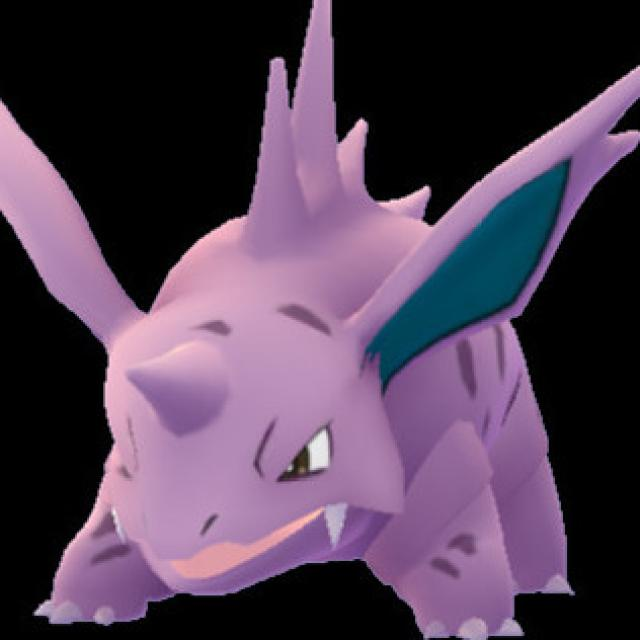Nidorino: (38, 69, 593, 626)
